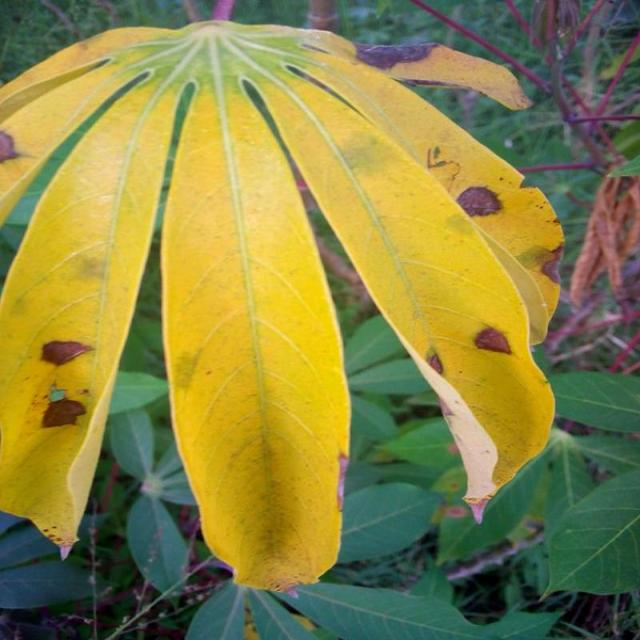cassava leaf: (2, 17, 566, 594)
